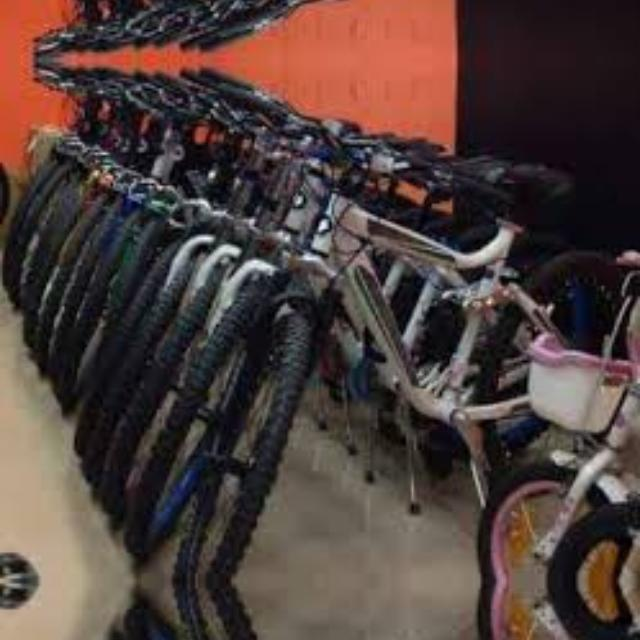obstacle: (225, 97, 640, 581), (224, 581, 639, 640), (224, 0, 639, 21)
